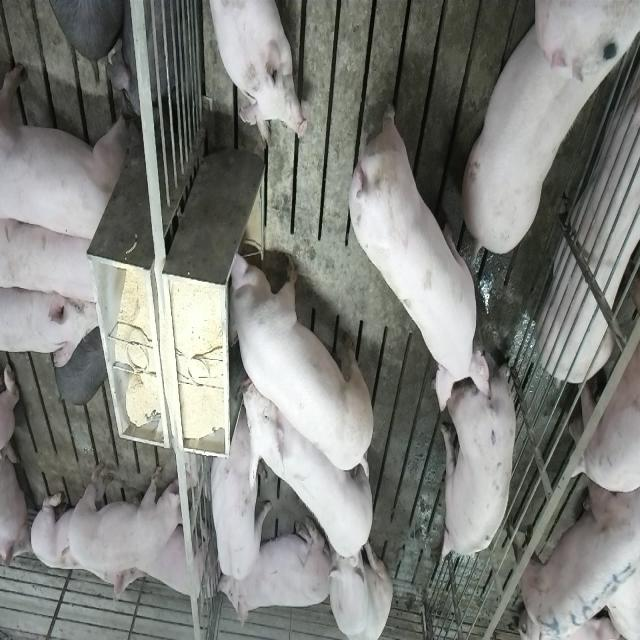Feeding: (218, 247, 370, 473)
Sitting: (326, 528, 392, 639)
Standing: (457, 8, 635, 264), (343, 90, 487, 406), (243, 372, 377, 564), (1, 60, 130, 246), (517, 472, 640, 640), (436, 355, 518, 569), (63, 463, 188, 569), (3, 208, 105, 308), (0, 281, 104, 367), (211, 426, 267, 578)
Sternal_lying: (204, 0, 306, 142), (31, 483, 145, 610), (218, 511, 330, 627), (138, 520, 212, 604)
